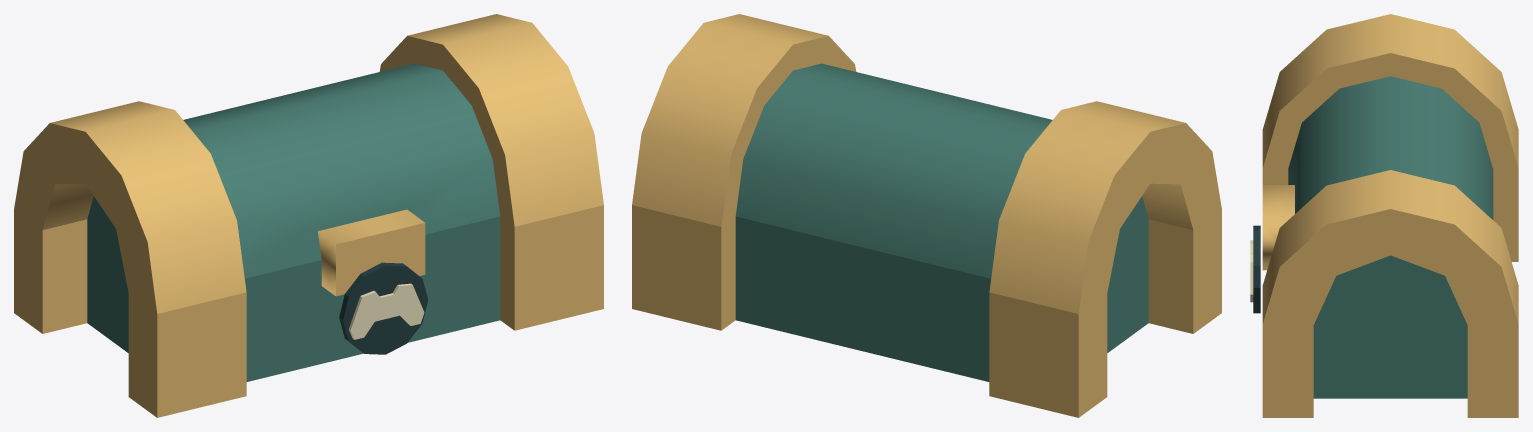
The model's file is adventure.glb.
3 views of the same model, side by side, from view 1: azimuth 30°, elevation 25°; view 2: azimuth 150°, elevation 25°; view 3: azimuth 270°, elevation 25° (orthographic). The views are drawn at different scales.
Visible parts, largest first — view 1: lid, chest, category badge, emblem; view 2: lid, chest; view 3: lid, chest, category badge.
Part boxes in pixels (box(x1,y1,x2,y2)): lid: box(14, 14, 603, 313); chest: box(14, 205, 603, 417); category badge: box(339, 262, 428, 354); emblem: box(348, 283, 424, 339); lid: box(632, 14, 1221, 313); chest: box(632, 205, 1221, 417); lid: box(1262, 14, 1518, 324); chest: box(1262, 169, 1518, 417); category badge: box(1253, 225, 1260, 313).
Size of the model in its own units: 2.29 by 1.15 by 1.34.
